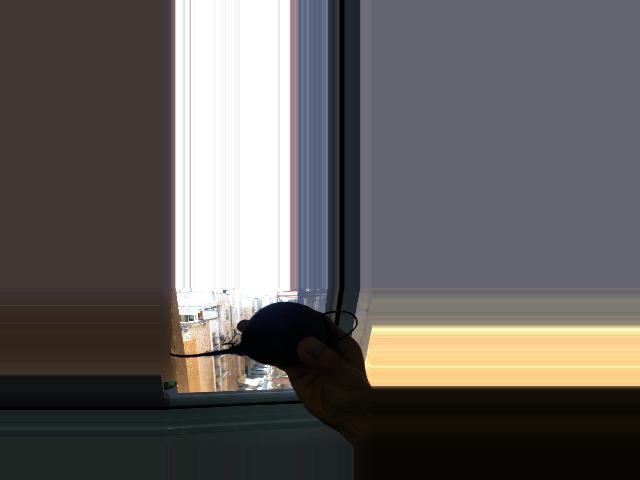beet: (168, 302, 356, 366)
